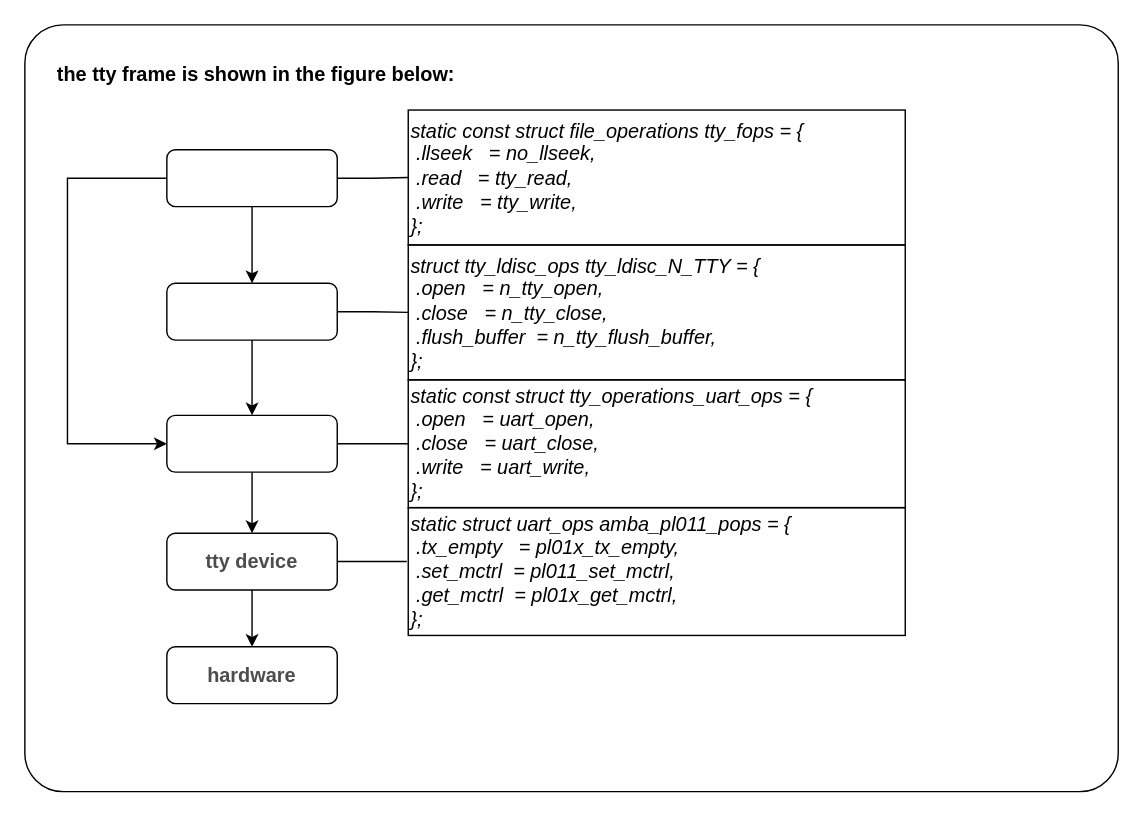
Image size: 1143x817. Some labels were removed from this diagram. The shapes that lost their labels are listed below. From the top down, each one's box as (x1, y1, x2, y2) in pixels, then its label:
(165, 148, 337, 207): user space
(165, 282, 337, 340): line discipline
(165, 414, 337, 472): tty core layer
